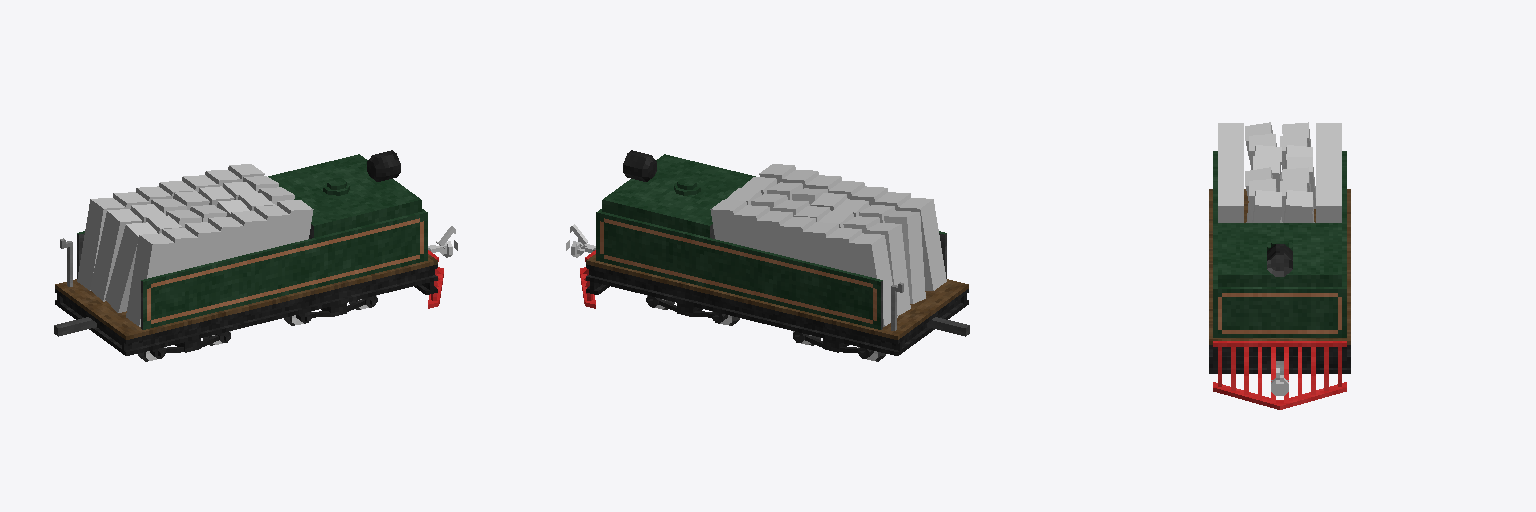
The picture shows the model from 3 angles: view 1: azimuth 30°, elevation 25°; view 2: azimuth 150°, elevation 25°; view 3: azimuth 270°, elevation 25°; orthographic projection.
Visible parts, largest first — view 1: FRAME.body, CARGO_FILL_1, FRAME, WIDGET_1_TOGGLE_CG_headrear_LABEL_Rear^Headlight, COUPLER_ENGAGED_REAR_2_TOGGLE_LABEL_Uncouple, BOGEY_REAR, BOGEY_FRONT; view 2: FRAME.body, CARGO_FILL_1, FRAME, WIDGET_1_TOGGLE_CG_headrear_LABEL_Rear^Headlight, COUPLER_ENGAGED_REAR_2_TOGGLE_LABEL_Uncouple, BOGEY_REAR, BOGEY_FRONT; view 3: FRAME.body, CARGO_FILL_1, COUPLER_ENGAGED_REAR_2_TOGGLE_LABEL_Uncouple, FRAME, WIDGET_1_TOGGLE_CG_headrear_LABEL_Rear^Headlight.
Boxes of the visible parts, x1=… form: FRAME.body: x1=77, y1=154, x2=427, y2=329; CARGO_FILL_1: x1=77, y1=164, x2=313, y2=326; FRAME: x1=55, y1=254, x2=437, y2=355; WIDGET_1_TOGGLE_CG_headrear_LABEL_Rear^Headlight: x1=367, y1=150, x2=400, y2=181; COUPLER_ENGAGED_REAR_2_TOGGLE_LABEL_Uncouple: x1=428, y1=240, x2=457, y2=308; BOGEY_REAR: x1=296, y1=296, x2=377, y2=323; BOGEY_FRONT: x1=150, y1=332, x2=230, y2=358; FRAME.body: x1=596, y1=154, x2=946, y2=329; CARGO_FILL_1: x1=710, y1=164, x2=946, y2=326; FRAME: x1=586, y1=254, x2=968, y2=355; WIDGET_1_TOGGLE_CG_headrear_LABEL_Rear^Headlight: x1=623, y1=150, x2=656, y2=181; COUPLER_ENGAGED_REAR_2_TOGGLE_LABEL_Uncouple: x1=566, y1=239, x2=595, y2=308; BOGEY_REAR: x1=646, y1=296, x2=727, y2=323; BOGEY_FRONT: x1=793, y1=332, x2=873, y2=358; FRAME.body: x1=1213, y1=151, x2=1346, y2=337; CARGO_FILL_1: x1=1218, y1=122, x2=1341, y2=222; COUPLER_ENGAGED_REAR_2_TOGGLE_LABEL_Uncouple: x1=1213, y1=341, x2=1346, y2=409; FRAME: x1=1209, y1=189, x2=1350, y2=373; WIDGET_1_TOGGLE_CG_headrear_LABEL_Rear^Headlight: x1=1267, y1=244, x2=1292, y2=276.
Bounding box in the file's own units: 6.5 × 2.19 × 2.
Materials: 4 (2 with a texture image).